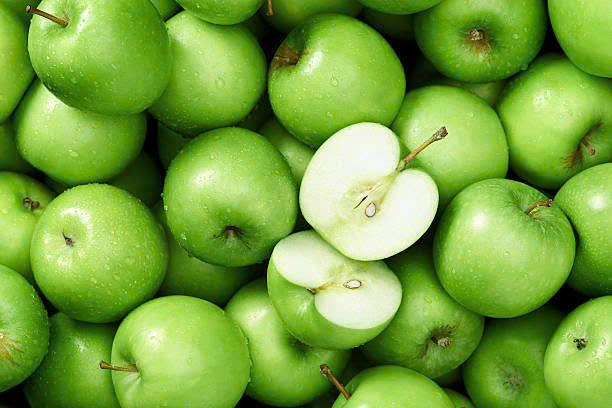apple: (300, 124, 449, 263), (144, 135, 296, 260), (438, 185, 576, 316), (28, 0, 176, 115), (35, 188, 170, 310), (275, 22, 411, 139), (269, 233, 403, 348), (114, 295, 250, 408), (502, 72, 612, 184)
